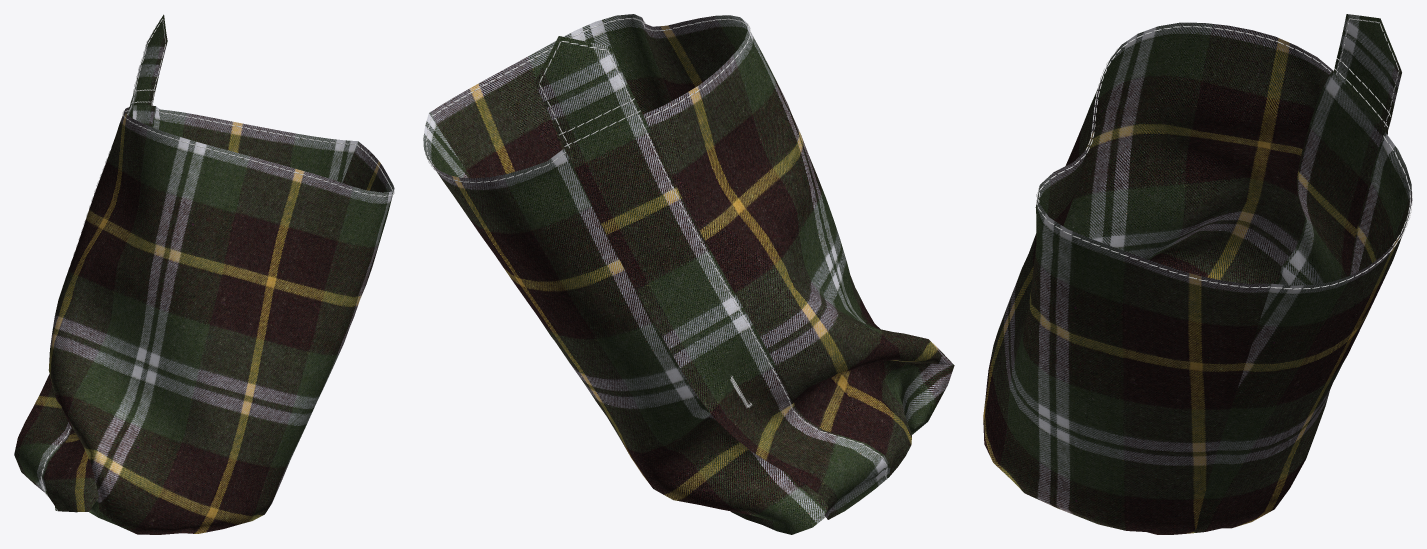
Rendered from sz2youxiuxq.glb.
3 renders of one model, left to right at view 1: azimuth 30°, elevation 25°; view 2: azimuth 150°, elevation 25°; view 3: azimuth 270°, elevation 25°, orthographic. The views are drawn at different scales.
Visible parts, largest first — view 1: sz2youxiuxq, _2; view 2: sz2youxiuxq, _2; view 3: sz2youxiuxq, _2.
Part boxes in pixels (box(x1,y1,x2,y2)): sz2youxiuxq: box(14, 14, 394, 534); _2: box(40, 19, 394, 510); sz2youxiuxq: box(423, 14, 954, 534); _2: box(425, 18, 887, 479); sz2youxiuxq: box(983, 14, 1412, 534); _2: box(1036, 18, 1412, 289).
Bounding box in the file's own units: 1.71 × 1.98 × 1.41.
Materials: 3 (3 with a texture image).
